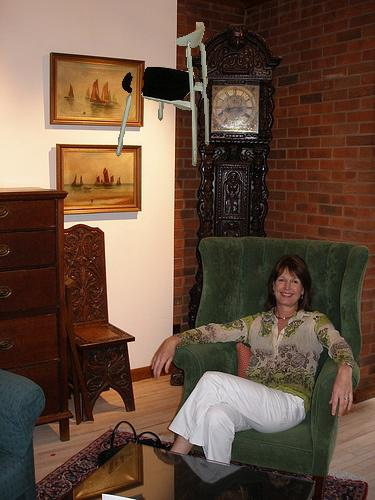tampered: (117, 23, 209, 166)
